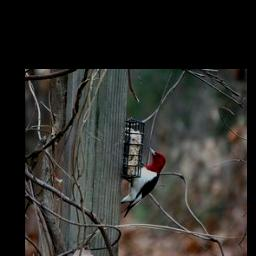Woodpecker: (115, 143, 169, 220)
